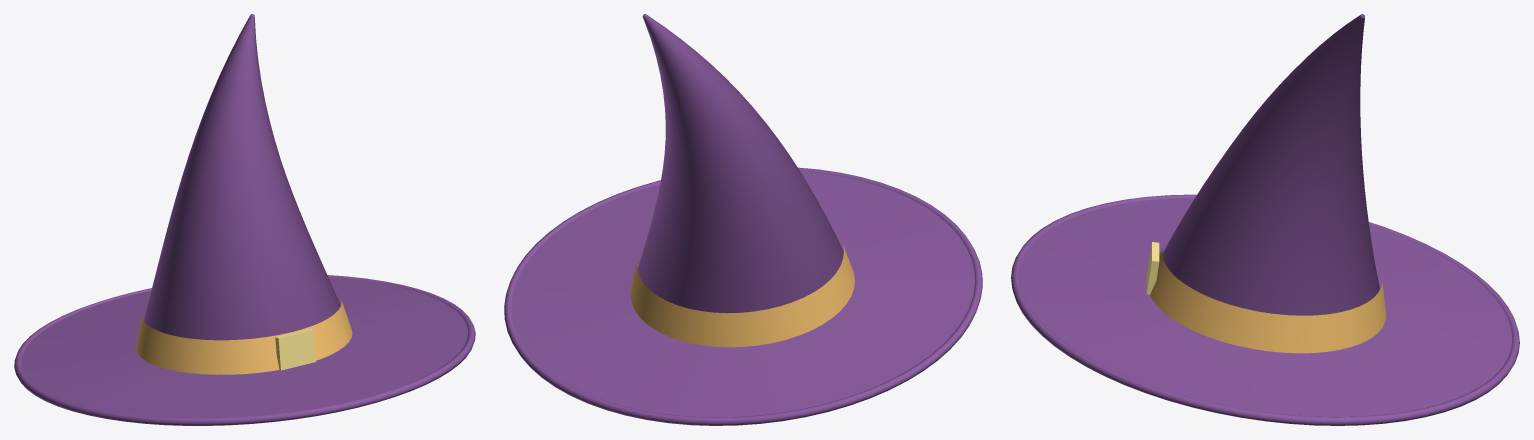
Rendered from witch-hat.glb.
3 views of the same model, side by side, from view 1: azimuth 30°, elevation 25°; view 2: azimuth 150°, elevation 25°; view 3: azimuth 270°, elevation 25° (orthographic). The views are drawn at different scales.
Size of the model in its own units: 27.5 by 21.24 by 27.23.
